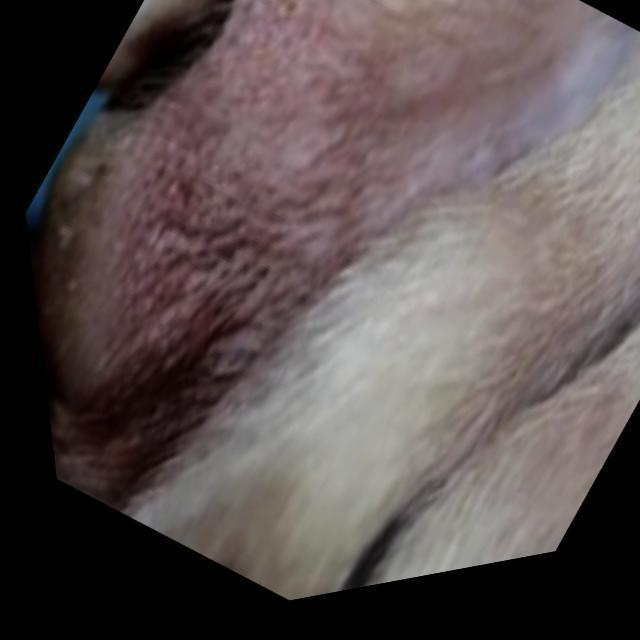fungal infection: (145, 92, 237, 326), (70, 387, 169, 482), (241, 0, 342, 80), (239, 211, 303, 315), (43, 226, 120, 310)
